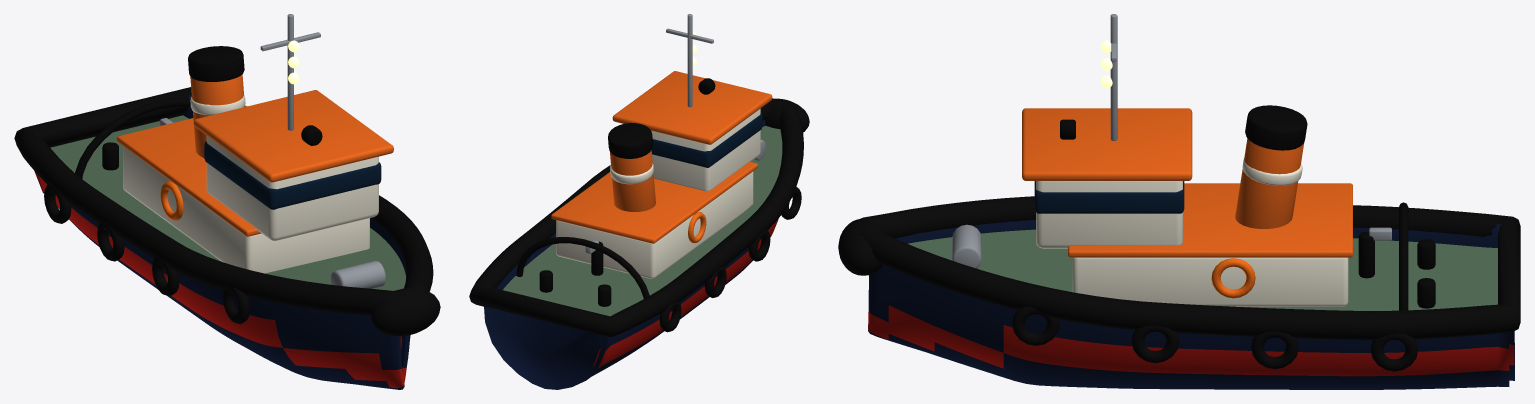
Rendered from tug.glb.
3 renders of one model, left to right at view 1: azimuth 30°, elevation 25°; view 2: azimuth 150°, elevation 25°; view 3: azimuth 270°, elevation 25°, orthographic. The views are drawn at different scales.
Parts seen in each view (by area): view 1: Fenderwulst, Rumpf, Dach, Deckshaus, Steuerhaus, Deck, Deckshaus_Dach, Fensterband, Sphere, Schornstein_Kappe, Schornstein, Schleppbogen (+9 smaller); view 2: Fenderwulst, Rumpf, Deck, Dach, Deckshaus_Dach, Deckshaus, Steuerhaus, Schornstein, Fensterband, Schornstein_Kappe, Schleppbogen, Sphere (+10 smaller); view 3: Rumpf, Fenderwulst, Deck, Deckshaus, Dach, Deckshaus_Dach, Steuerhaus, Schornstein, Fensterband, Schornstein_Kappe, Sphere, Torus.004 (+9 smaller).
Part boxes in pixels (bbox=[...]): Fenderwulst: bbox=[14, 87, 433, 315]; Rumpf: bbox=[34, 95, 410, 389]; Dach: bbox=[194, 90, 393, 182]; Deckshaus: bbox=[123, 146, 369, 273]; Steuerhaus: bbox=[206, 135, 378, 240]; Deck: bbox=[50, 115, 406, 290]; Deckshaus_Dach: bbox=[117, 105, 261, 236]; Fensterband: bbox=[204, 141, 381, 209]; Sphere: bbox=[371, 290, 440, 336]; Schornstein_Kappe: bbox=[188, 46, 244, 81]; Schornstein: bbox=[190, 74, 244, 157]; Schleppbogen: bbox=[75, 98, 190, 178]; Fenderwulst: bbox=[469, 98, 803, 337]; Rumpf: bbox=[484, 120, 781, 389]; Deck: bbox=[503, 126, 782, 316]; Dach: bbox=[612, 71, 772, 144]; Deckshaus_Dach: bbox=[551, 162, 757, 243]; Deckshaus: bbox=[556, 171, 753, 278]; Steuerhaus: bbox=[651, 108, 760, 191]; Schornstein: bbox=[610, 150, 655, 211]; Fensterband: bbox=[651, 113, 762, 167]; Schornstein_Kappe: bbox=[608, 123, 652, 158]; Schleppbogen: bbox=[516, 237, 649, 298]; Sphere: bbox=[765, 98, 809, 132]; Rumpf: bbox=[868, 220, 1514, 389]; Fenderwulst: bbox=[857, 196, 1520, 340]; Deck: bbox=[908, 229, 1497, 310]; Deckshaus: bbox=[1072, 257, 1348, 306]; Dach: bbox=[1022, 108, 1192, 180]; Deckshaus_Dach: bbox=[1068, 183, 1352, 257]; Steuerhaus: bbox=[1036, 181, 1182, 248]; Schornstein: bbox=[1235, 138, 1303, 228]; Fensterband: bbox=[1034, 181, 1184, 213]; Schornstein_Kappe: bbox=[1245, 105, 1307, 150]; Sphere: bbox=[838, 219, 885, 275]; Torus.004: bbox=[1131, 325, 1179, 363].
Size of the model in its own units: 6.08 by 8.77 by 14.85.
